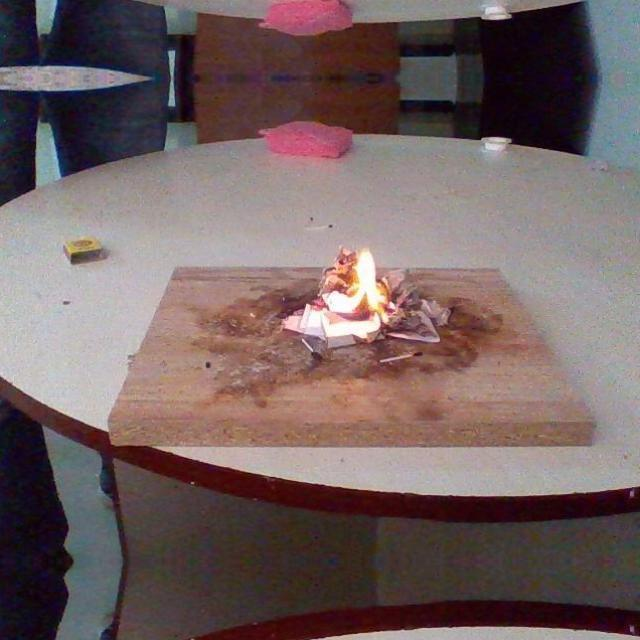smoke: (351, 246, 394, 311)
